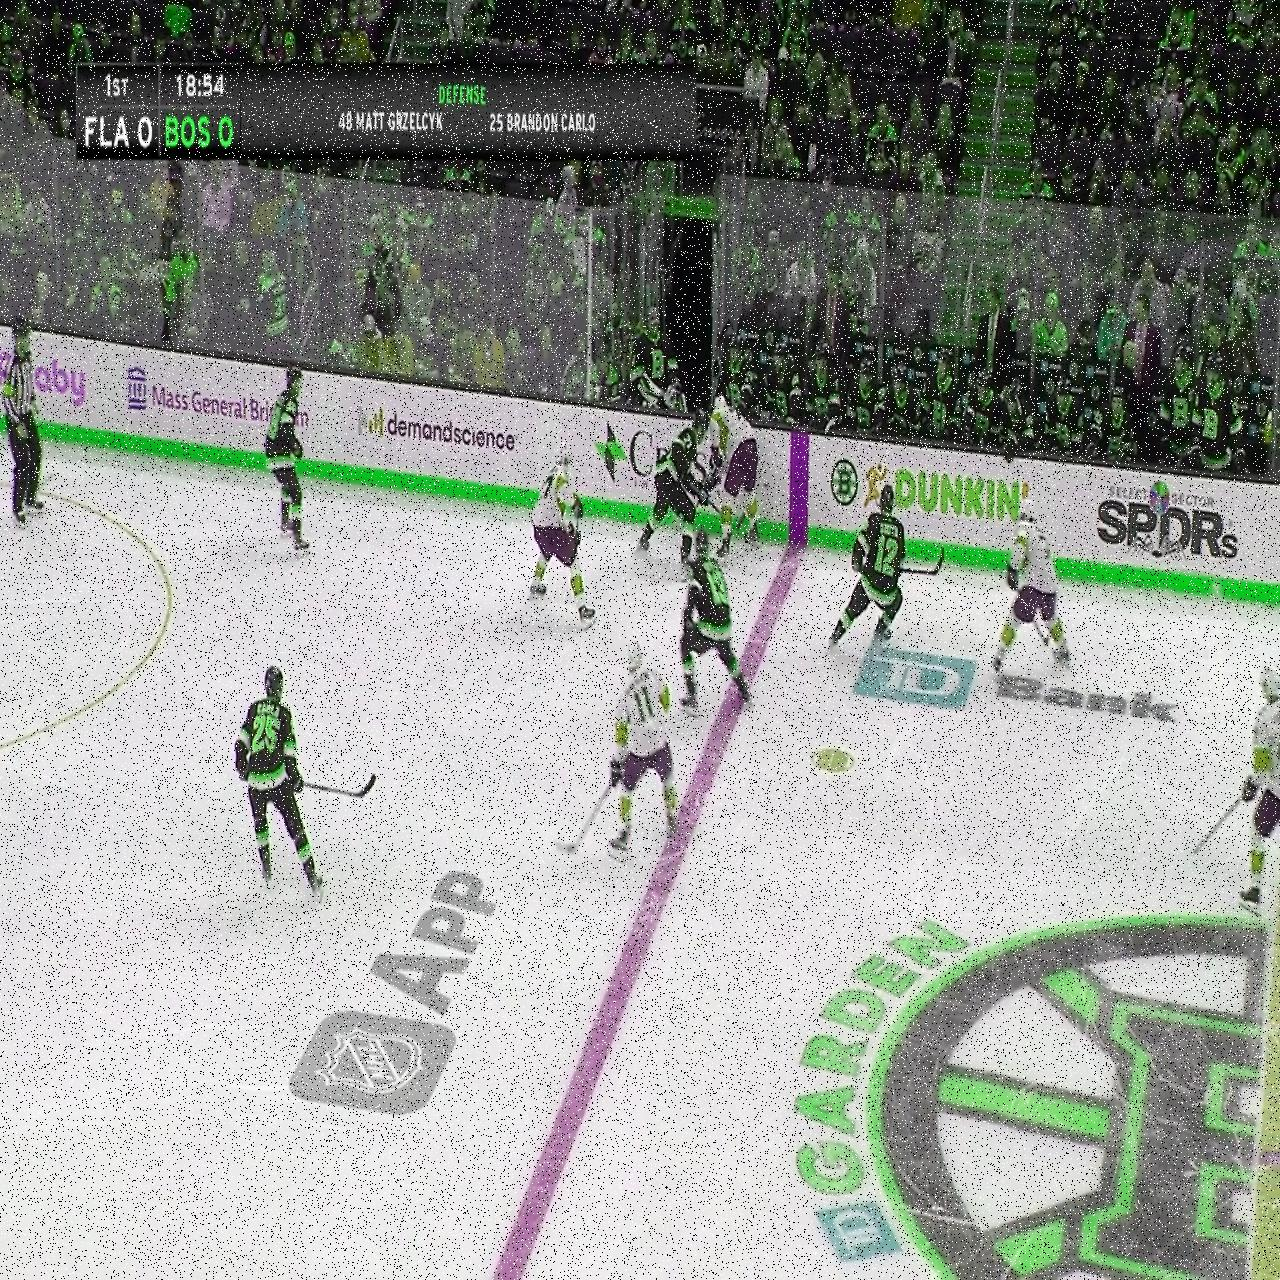Ad: (285, 845, 502, 1116), (855, 642, 1198, 706), (122, 355, 322, 450), (863, 448, 1044, 547), (588, 406, 753, 508), (350, 389, 529, 476), (1096, 470, 1237, 578), (0, 347, 91, 413)
